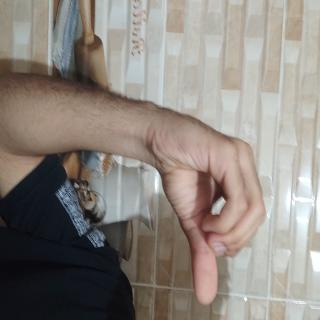WAW: (70, 65, 232, 252)
